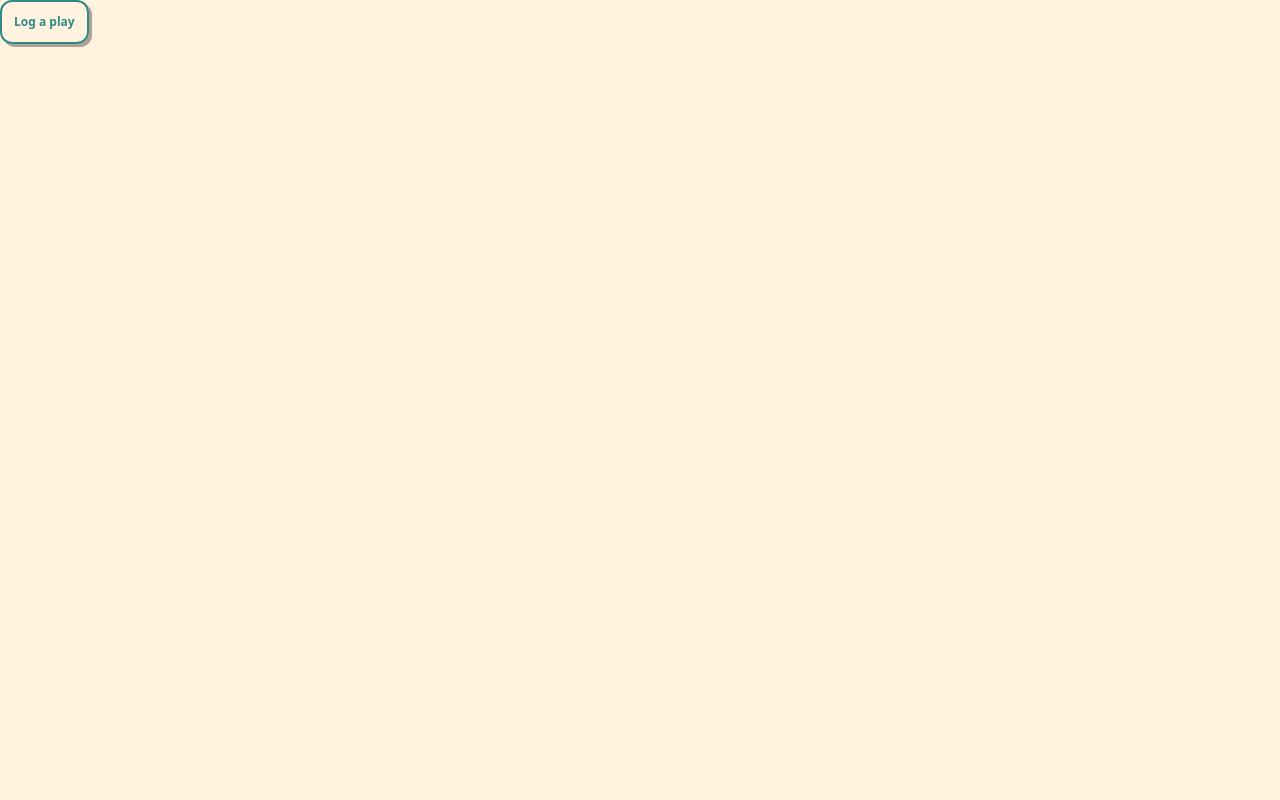
it: CalendarPlayLauncher › reports a saved-list loading failure
Click the button "Log a play": click(44, 22) [0,0,89,44]
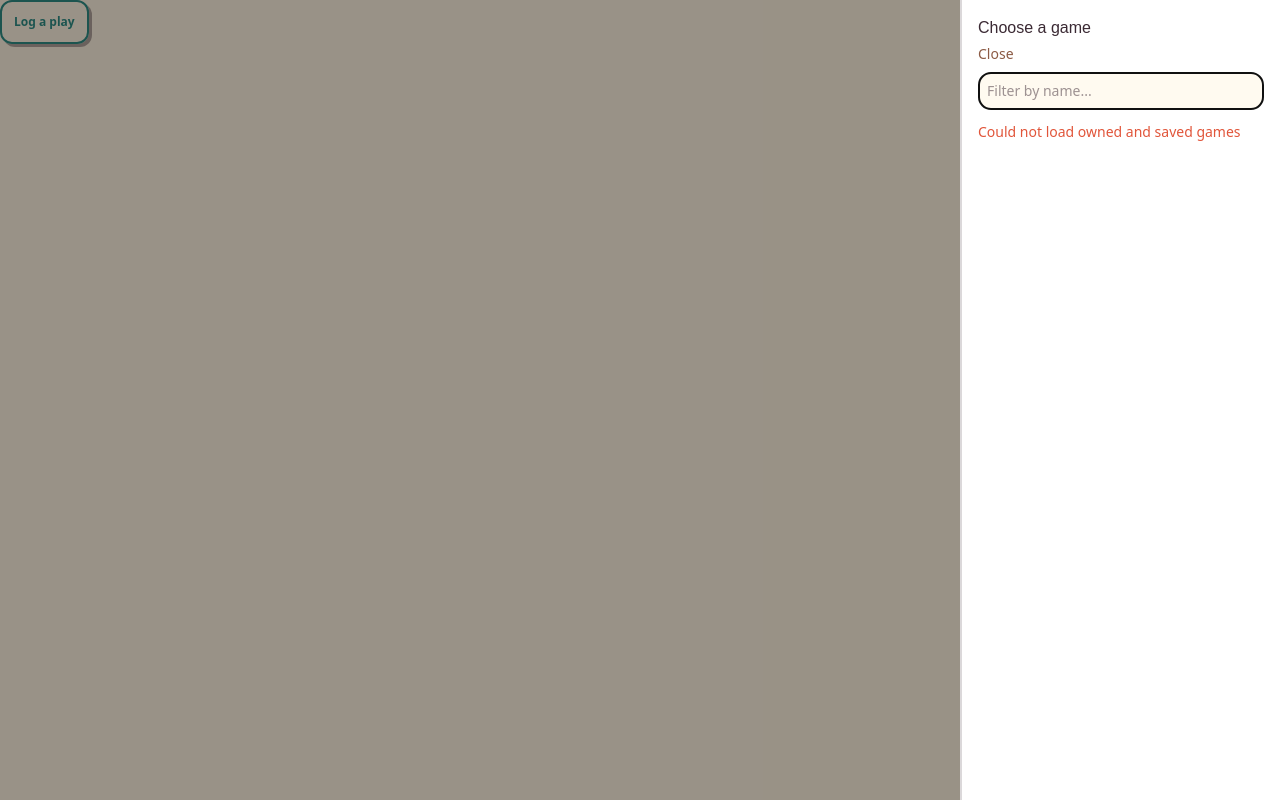
Result: the message reads "Could not load owned and saved games" at [978,122,1241,141]
